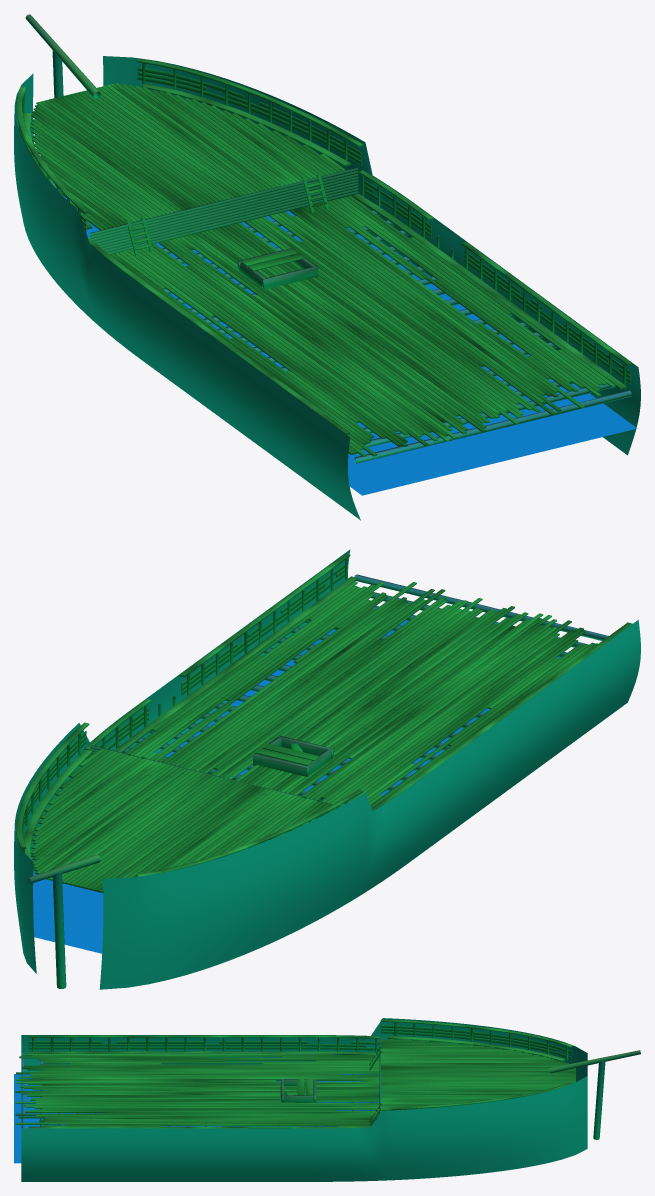
The model's file is arena_derelict_deck.glb.
3 views of the same model, one above another, from view 1: azimuth 30°, elevation 25°; view 2: azimuth 150°, elevation 25°; view 3: azimuth 270°, elevation 25° (orthographic). The views are drawn at different scales.
Visible parts, largest first — view 1: arena_derelict_deck; view 2: arena_derelict_deck; view 3: arena_derelict_deck.
Part boxes in pixels (box(x1,y1,x2,y2)): arena_derelict_deck: box(14, 14, 640, 520); arena_derelict_deck: box(14, 549, 640, 989); arena_derelict_deck: box(14, 1018, 640, 1181).
Size of what is drawn, in the model's own units: 15.33 by 6.66 by 42.73.
